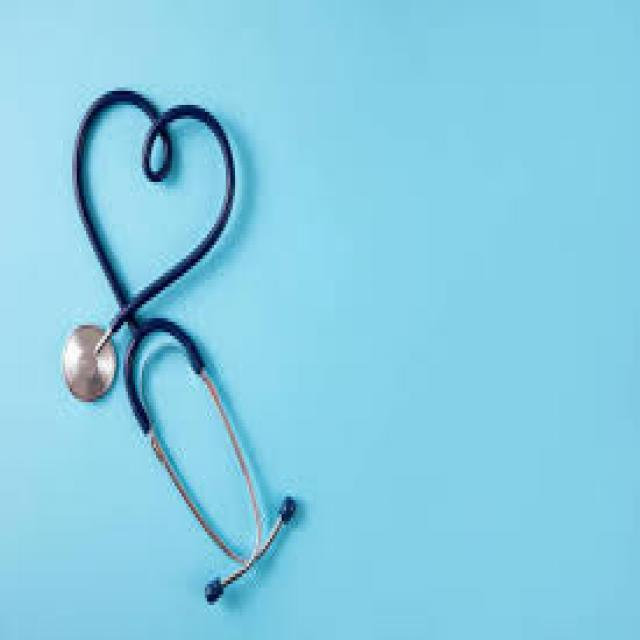stethoscope: (59, 46, 336, 591)
